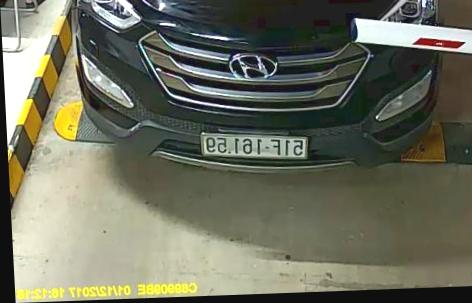License_Plate: (198, 130, 311, 165)
